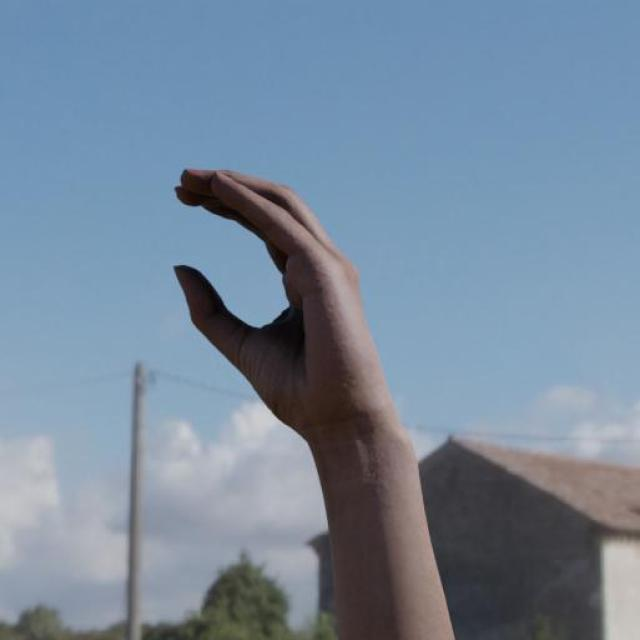C: (156, 152, 408, 464)
